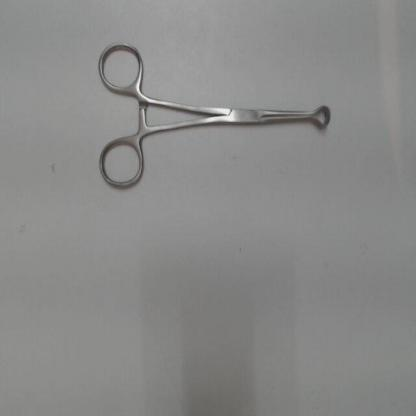Babcock Tissue Forceps: (95, 37, 334, 194)
